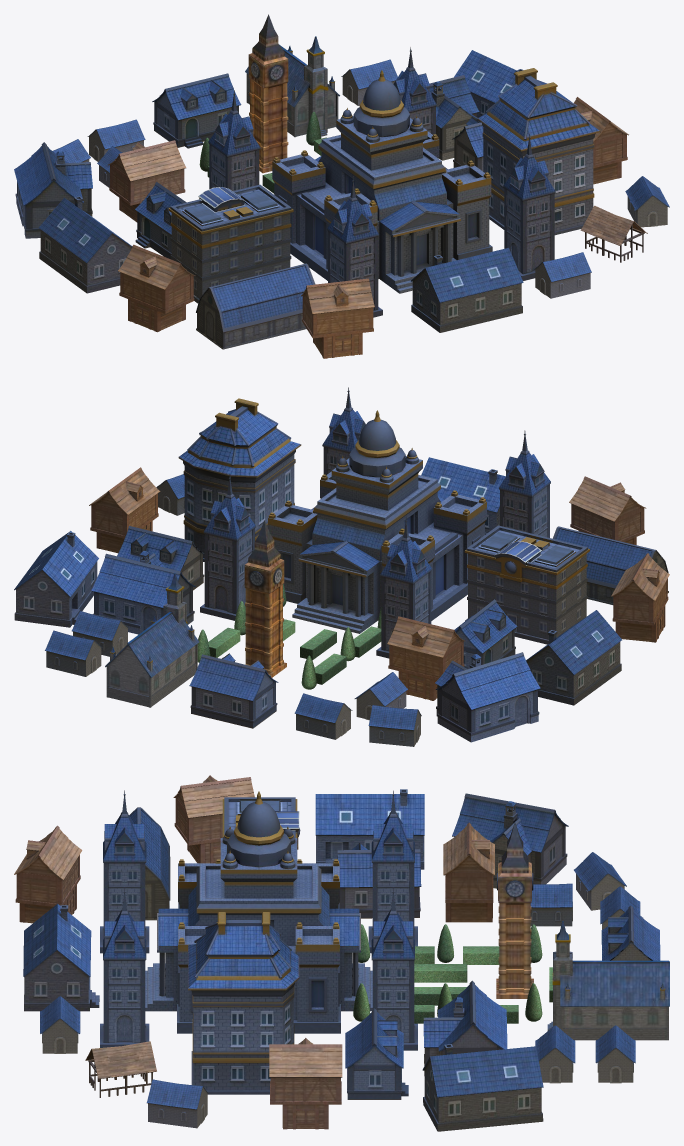
The model's file is city_european_4.glb.
3 views of the same model, one above another, from view 1: azimuth 30°, elevation 25°; view 2: azimuth 150°, elevation 25°; view 3: azimuth 270°, elevation 25° (orthographic). The views are drawn at different scales.
Parts seen in each view (by area): view 1: 0001_low.004; view 2: 0001_low.004; view 3: 0001_low.004.
Part boxes in pixels (box(x1,y1,x2,y2)): 0001_low.004: box(14, 14, 669, 358); 0001_low.004: box(14, 387, 669, 746); 0001_low.004: box(14, 775, 669, 1131).
Size of the model in its own units: 22.82 by 7.37 by 21.74.
Materials: 5 (5 with a texture image).
